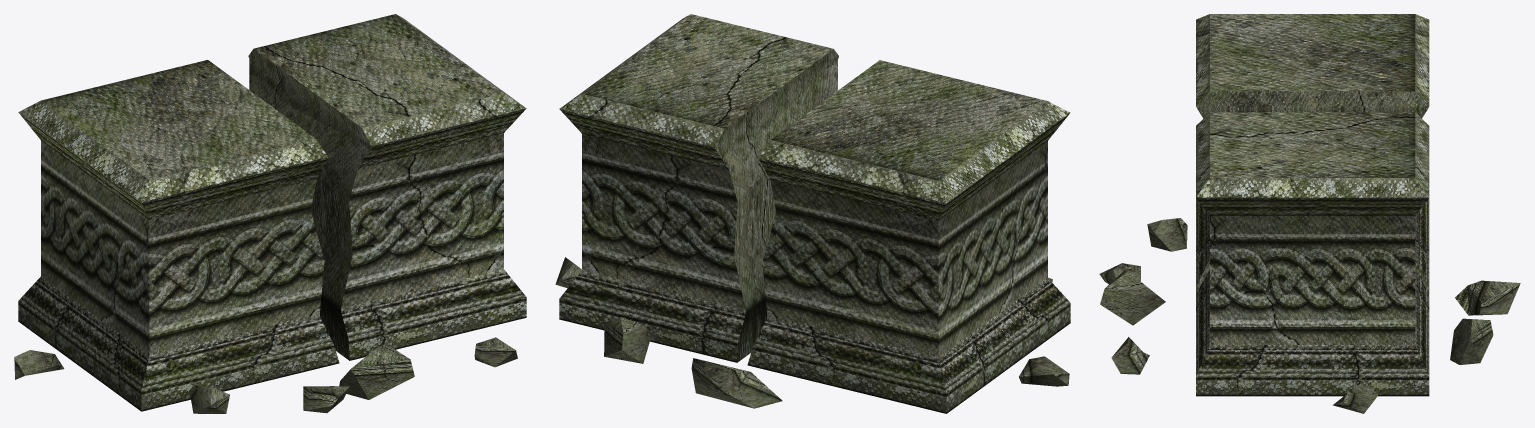
The model's file is mm9_deco_portalbroken.glb.
3 renders of one model, left to right at view 1: azimuth 30°, elevation 25°; view 2: azimuth 150°, elevation 25°; view 3: azimuth 270°, elevation 25°, orthographic. The views are drawn at different scales.
Parts seen in each view (by area): view 1: Portalbroken; view 2: Portalbroken; view 3: Portalbroken.
Part boxes in pixels (<box>): Portalbroken: <box>14,14,526,413</box>; Portalbroken: <box>555,14,1070,413</box>; Portalbroken: <box>1099,14,1520,413</box>.
Bounding box in the file's own units: 2.58 × 1.13 × 2.04.
Materials: 1 (1 with a texture image).
